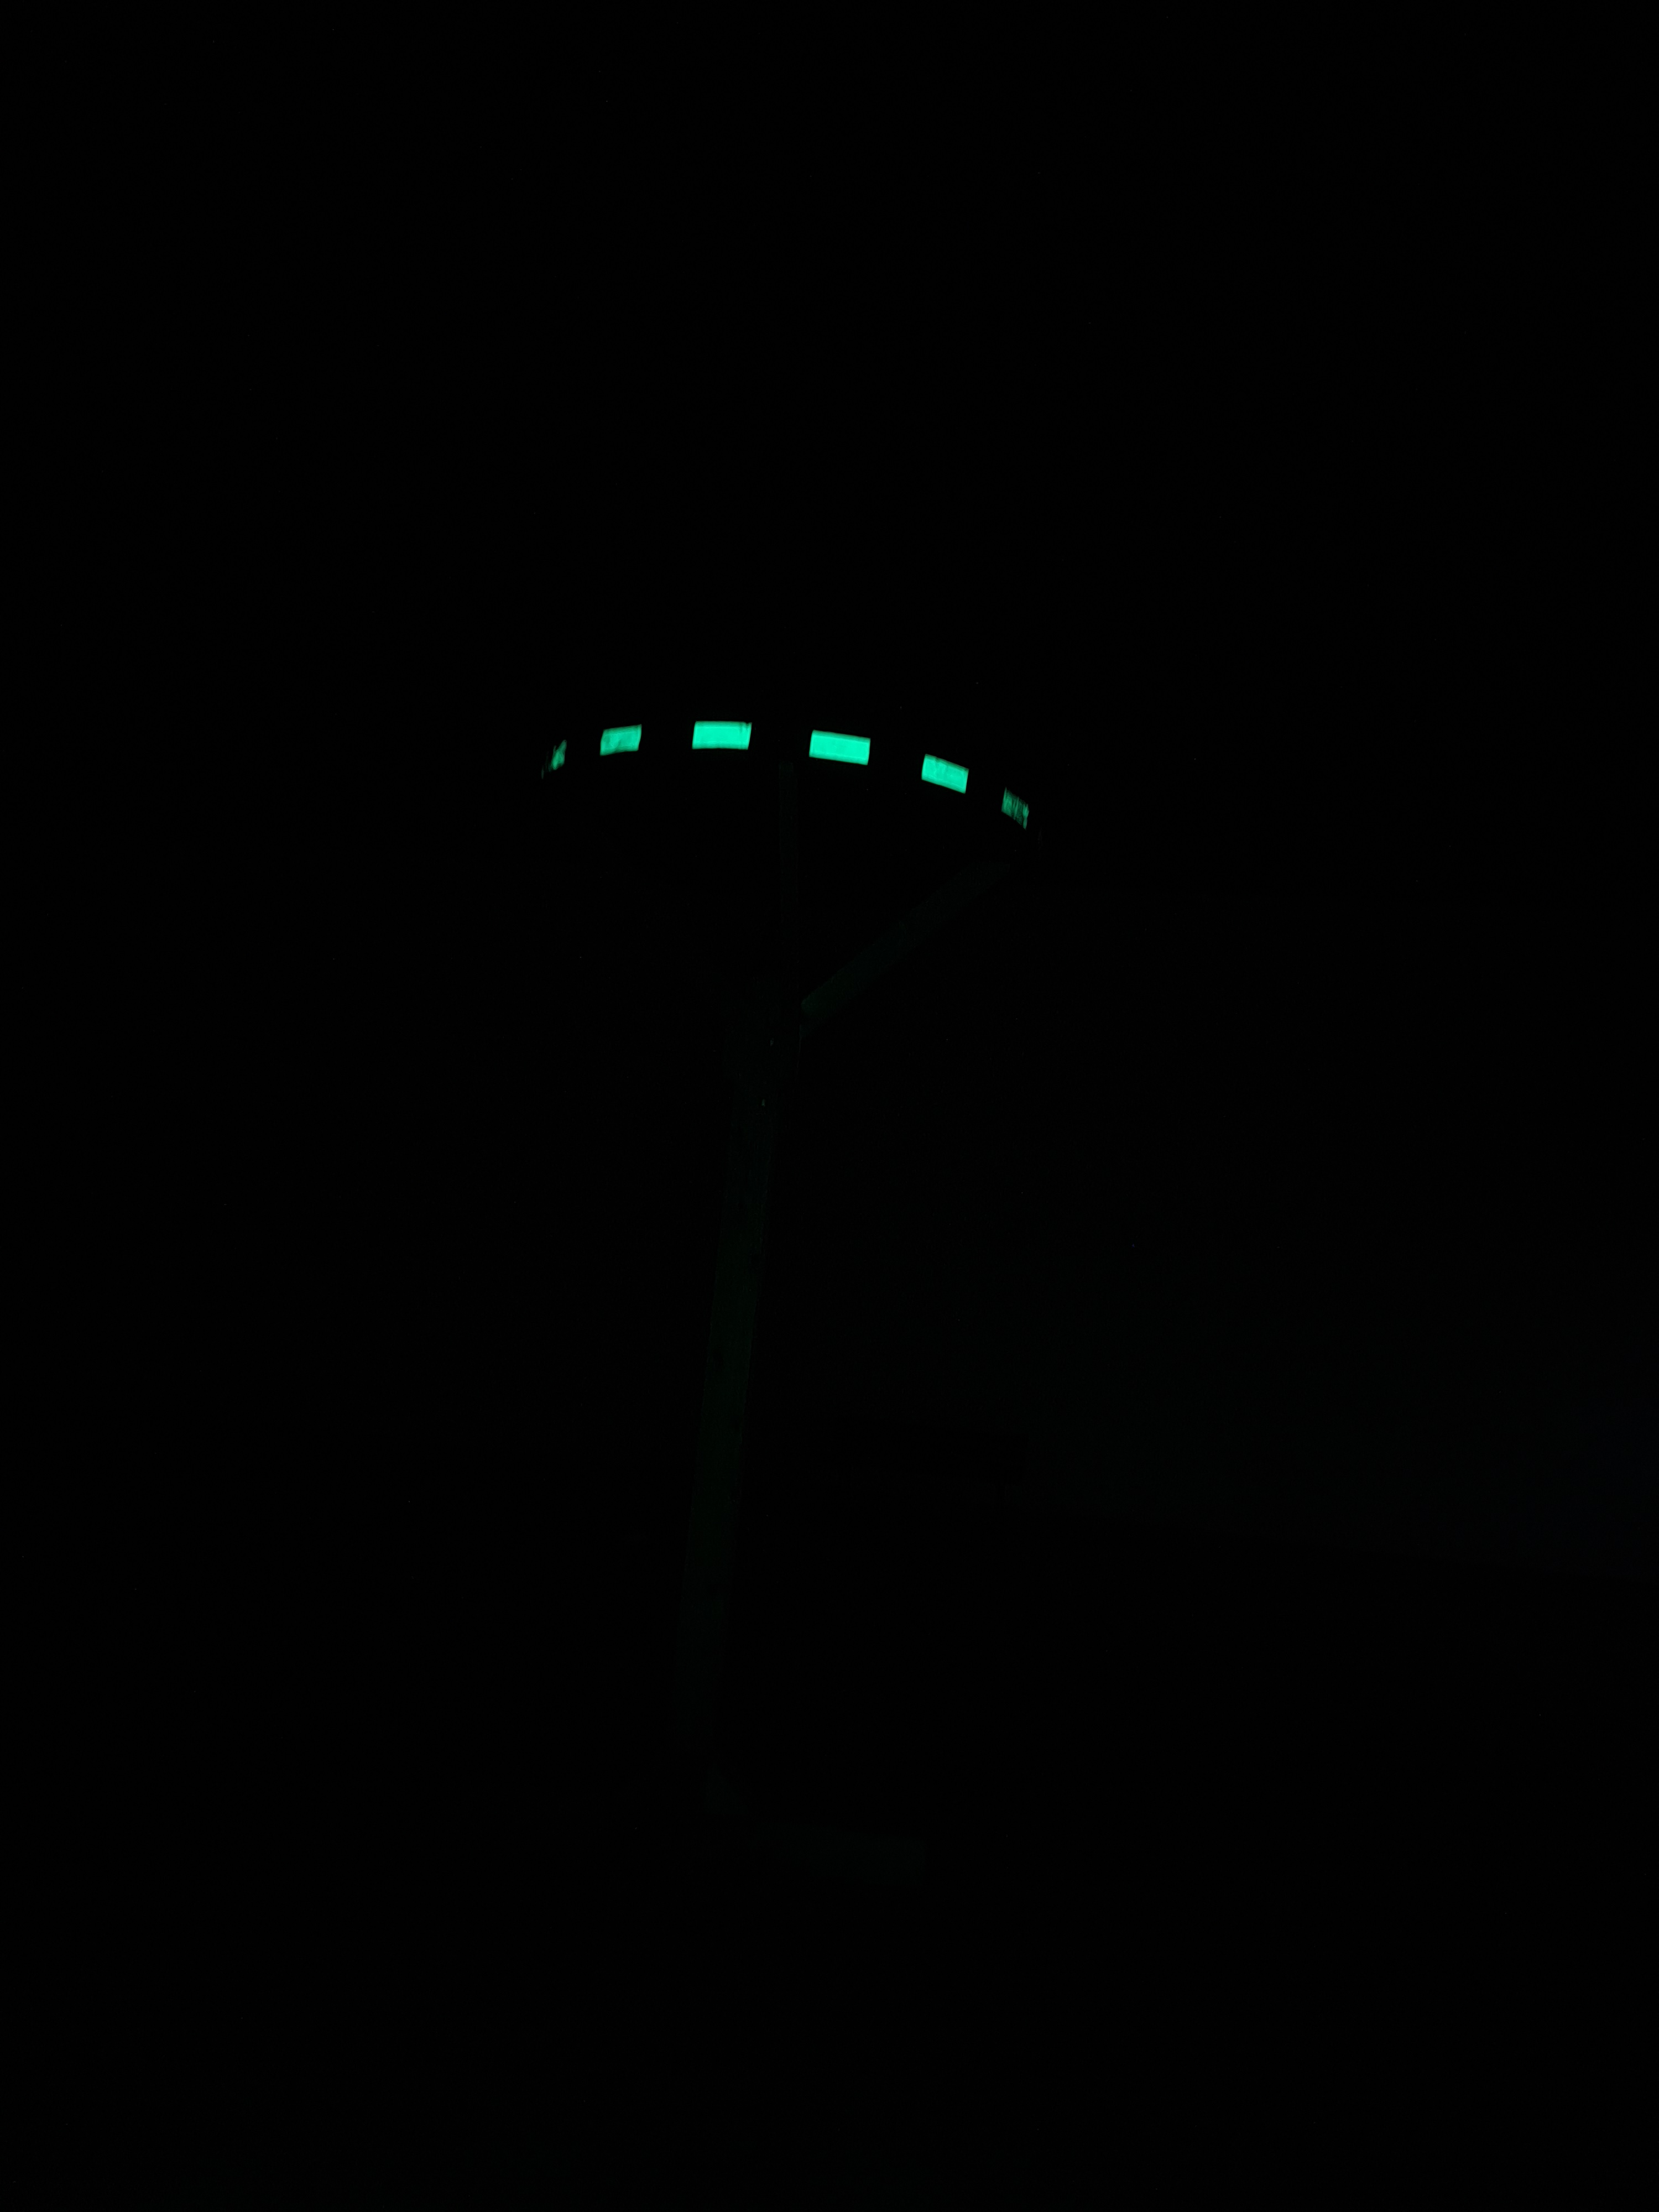hoop: (530, 707, 1039, 853)
